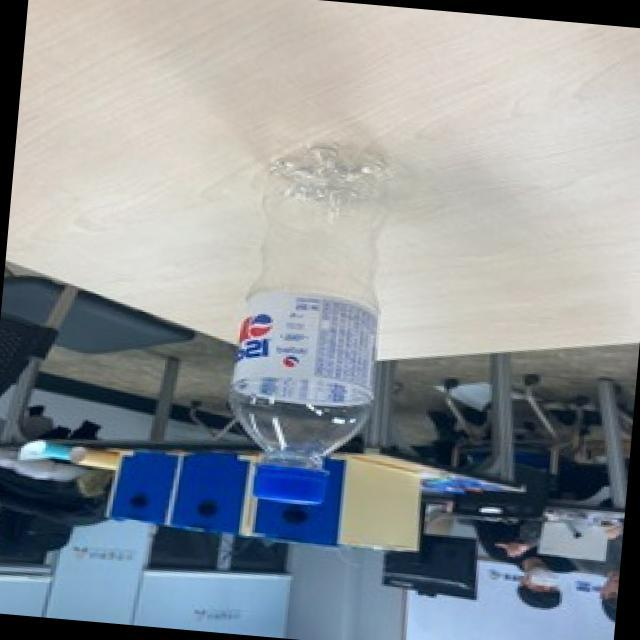good: (212, 113, 402, 519)
